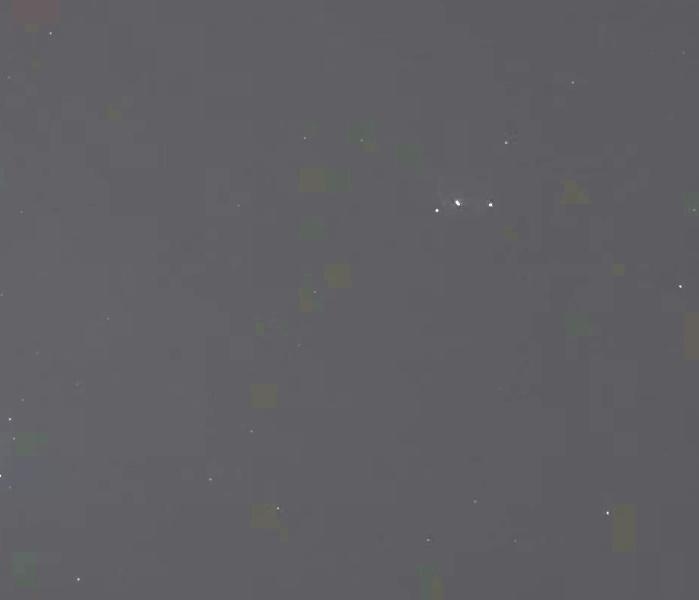Plane: (398, 180, 536, 224)
